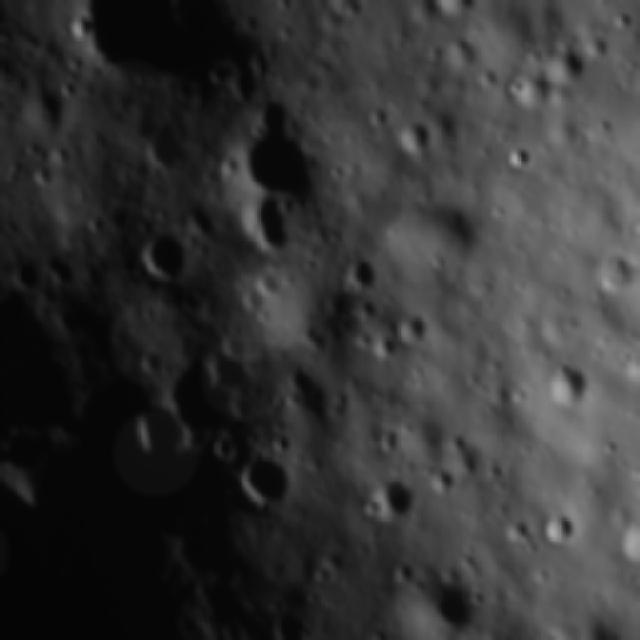crater: (231, 123, 332, 203), (160, 355, 240, 442), (407, 572, 487, 636), (225, 193, 302, 256), (132, 394, 185, 460), (134, 227, 194, 285), (235, 456, 292, 512), (542, 358, 593, 408), (368, 473, 414, 524), (509, 69, 557, 114), (538, 502, 580, 552), (545, 36, 587, 86), (252, 96, 296, 136), (395, 306, 434, 349), (283, 356, 320, 398), (341, 253, 381, 290), (43, 250, 80, 288), (396, 117, 432, 155), (389, 551, 422, 592), (251, 268, 287, 304), (10, 254, 42, 294), (498, 511, 534, 544), (220, 328, 254, 362), (235, 279, 267, 315), (64, 9, 96, 45), (364, 331, 402, 360), (138, 344, 172, 376), (504, 142, 536, 170), (378, 424, 400, 456), (56, 76, 82, 102), (366, 102, 391, 129), (31, 162, 54, 188), (214, 433, 232, 459)
